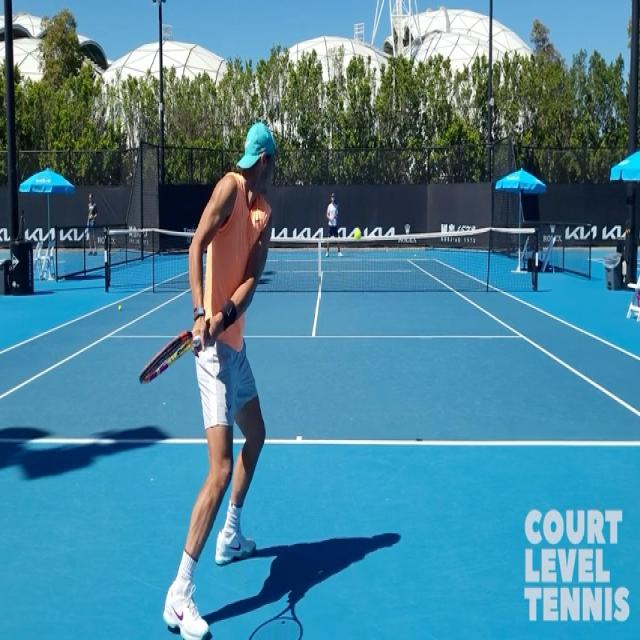backhand-ready: (143, 123, 271, 640)
